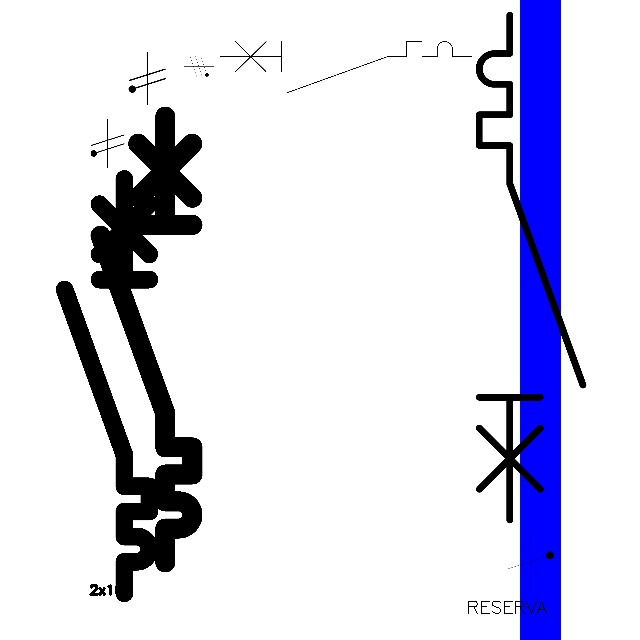interruptor_termomagnetico: (466, 2, 596, 533), (89, 105, 204, 574), (54, 168, 160, 603), (213, 35, 477, 99)
